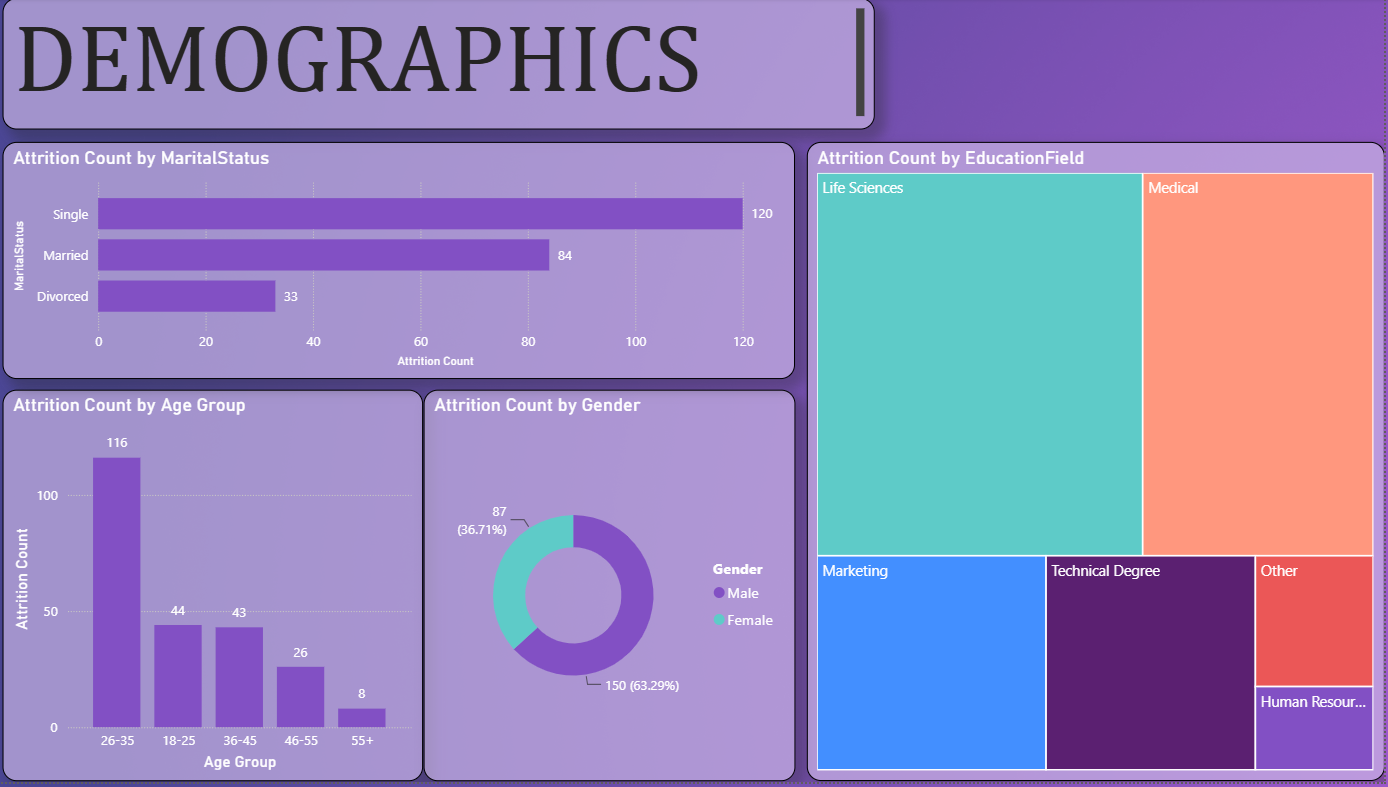

This screenshot's page, from the dashboard's own definition file:
{"tool":"powerbi","page":{"name":"Page 3","canvas":[1280,720],"ordinal":3},"visuals":[{"type":"textbox","box":[10,0,802.2,121.1],"z":0},{"type":"clusteredColumnChart","fields":{"Category":["Employee_Attrition_Predictions.Age Group"],"Y":["Employee_Attrition_Predictions.Attrition Count"]},"box":[10,360,386.7,360],"z":1000},{"type":"donutChart","fields":{"Y":["Employee_Attrition_Predictions.Attrition Count"],"Category":["Employee_Attrition_Predictions.Gender"]},"box":[396.7,360,342.2,360],"z":2000},{"type":"clusteredBarChart","fields":{"Category":["Employee_Attrition_Predictions.MaritalStatus"],"Y":["Employee_Attrition_Predictions.Attrition Count"]},"box":[10,132.2,728.9,217.8],"z":3000},{"type":"treemap","fields":{"Values":["Employee_Attrition_Predictions.Attrition Count"],"Details":["Employee_Attrition_Predictions.EducationField"]},"box":[748.9,132.2,531.1,587.8],"z":4000}]}

Visuals, with their boxes in screenshot pixels (x1, y1, x2, y2), scaled from the page's 1280x720 canvas onto the 1388x787 screenshot:
textbox: Rect(11, 0, 881, 132)
clusteredColumnChart - Employee_Attrition_Predictions.Age Group x Employee_Attrition_Predictions.Attrition Count: Rect(11, 393, 430, 786)
donutChart - Employee_Attrition_Predictions.Attrition Count x Employee_Attrition_Predictions.Gender: Rect(430, 393, 801, 786)
clusteredBarChart - Employee_Attrition_Predictions.MaritalStatus x Employee_Attrition_Predictions.Attrition Count: Rect(11, 145, 801, 383)
treemap - Employee_Attrition_Predictions.Attrition Count x Employee_Attrition_Predictions.EducationField: Rect(812, 145, 1387, 786)
